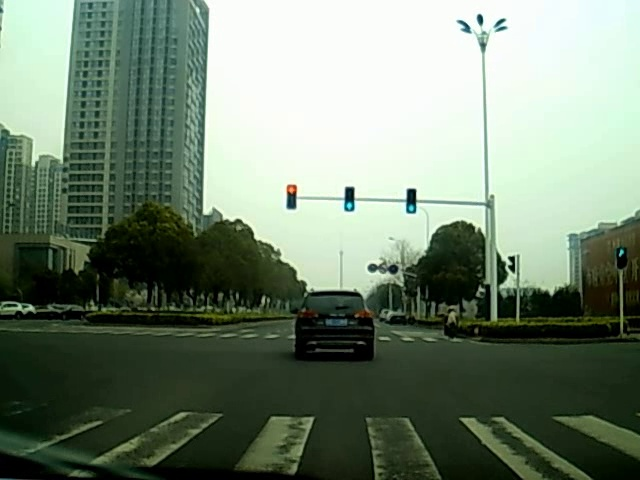Traffic_Light_go: (343, 188, 356, 212), (405, 187, 416, 215)
Traffic_Light_stop: (285, 184, 299, 210)
